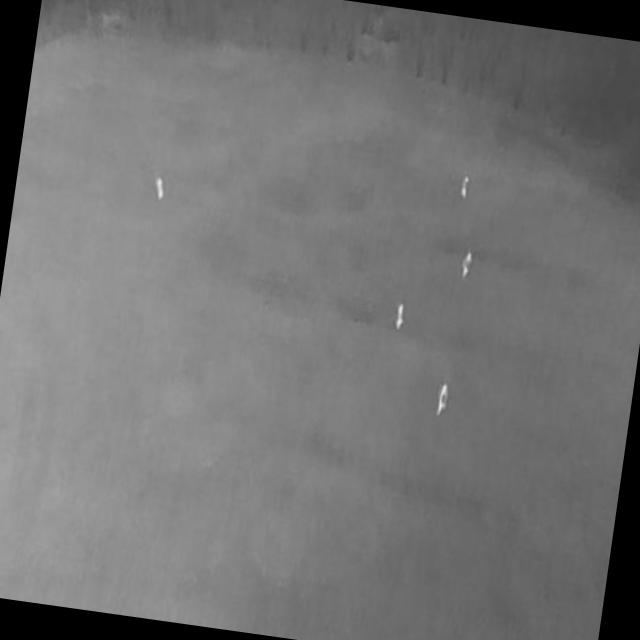person: (434, 383, 450, 418), (459, 252, 472, 280), (394, 303, 406, 332), (154, 178, 166, 204), (460, 176, 471, 202)
